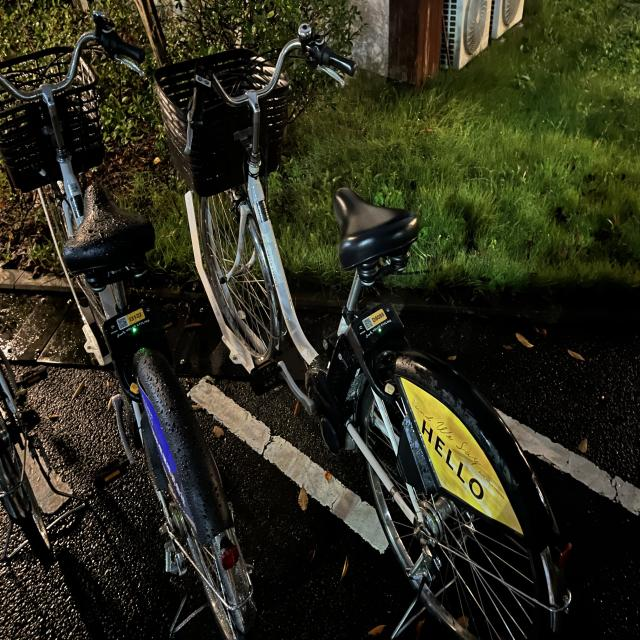basket: (147, 46, 290, 199)
battery: (322, 336, 362, 407)
